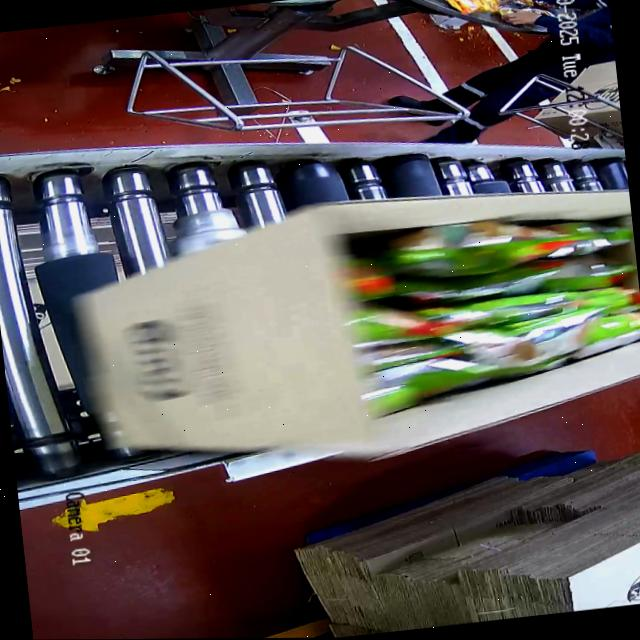YOGURT_HERB: (362, 203, 640, 387)
